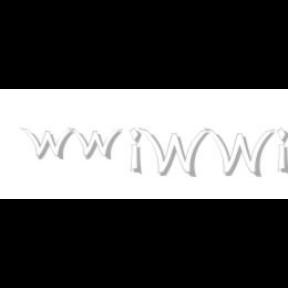W: (138, 128, 210, 178), (203, 128, 275, 178)
i: (129, 128, 145, 176)
w: (20, 128, 79, 160), (68, 128, 127, 160)
